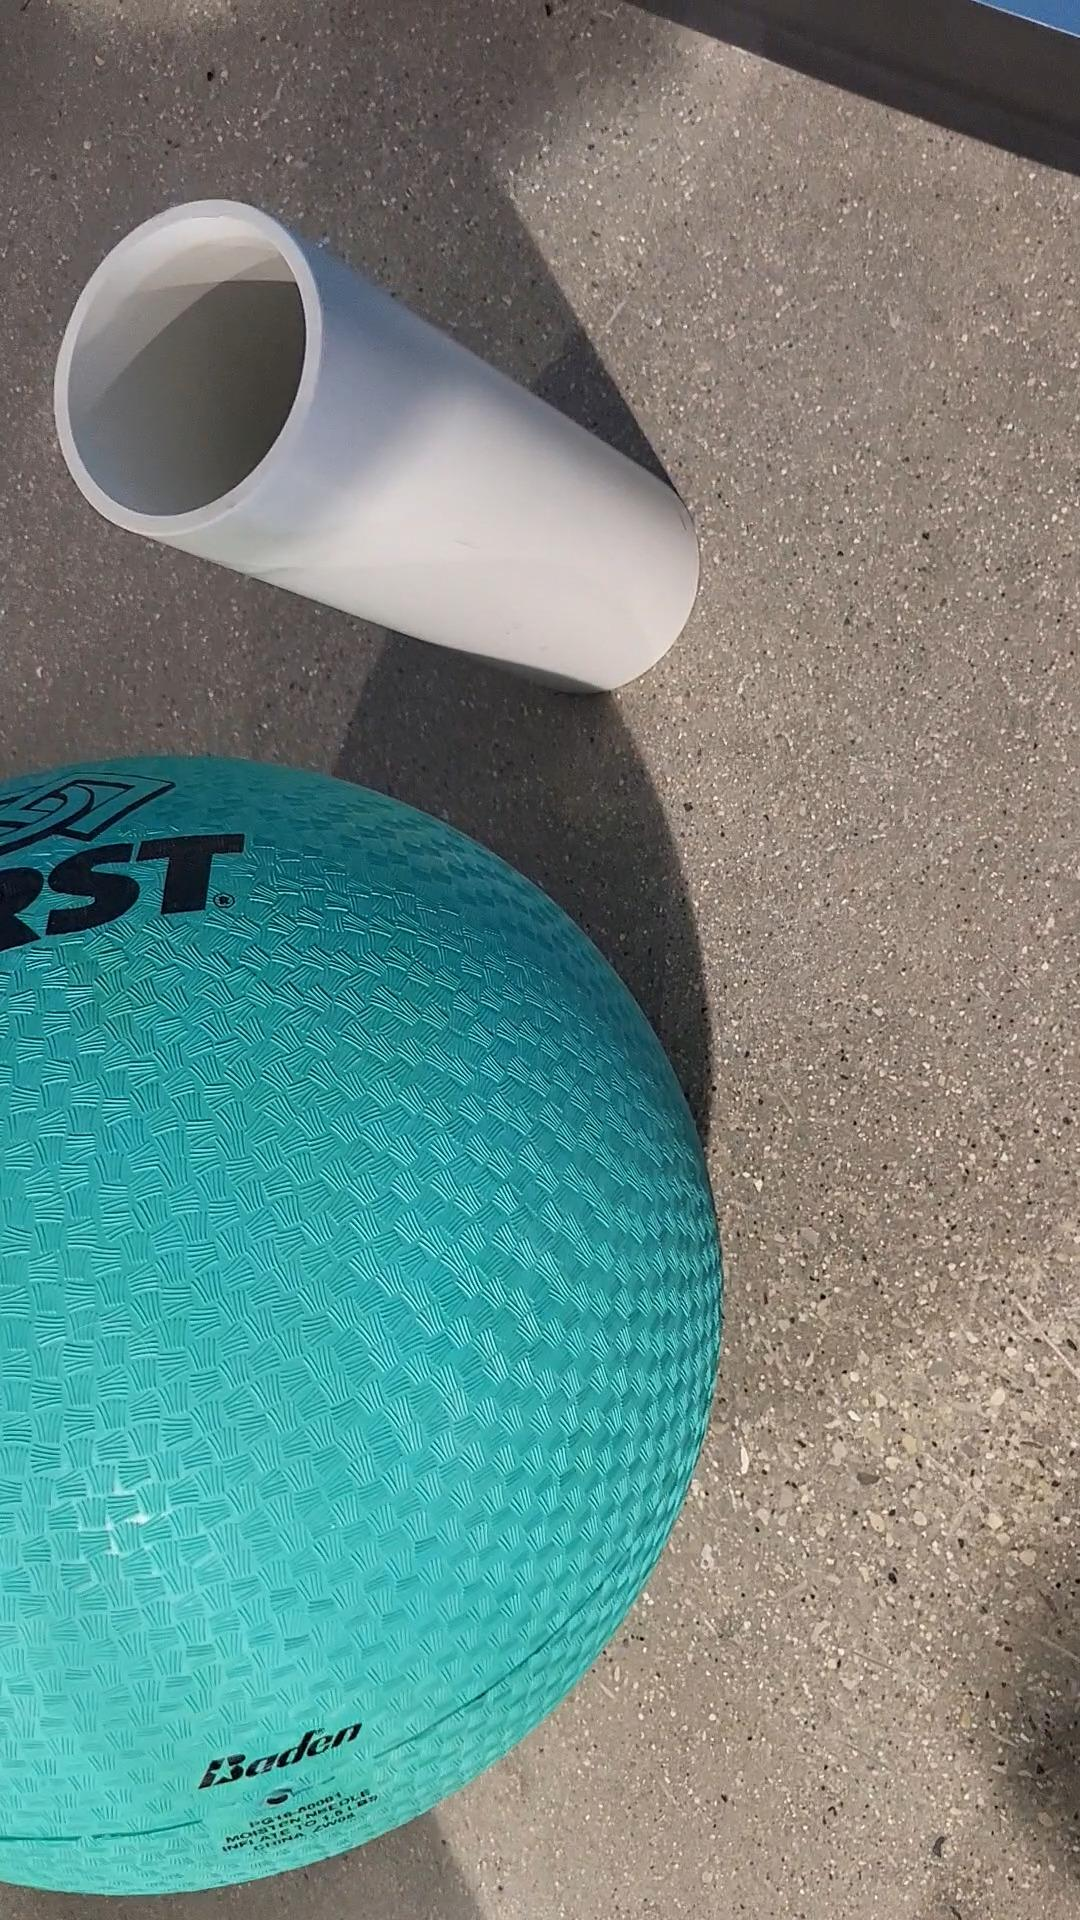algae: (0, 731, 744, 1913)
coral: (44, 183, 716, 694)
